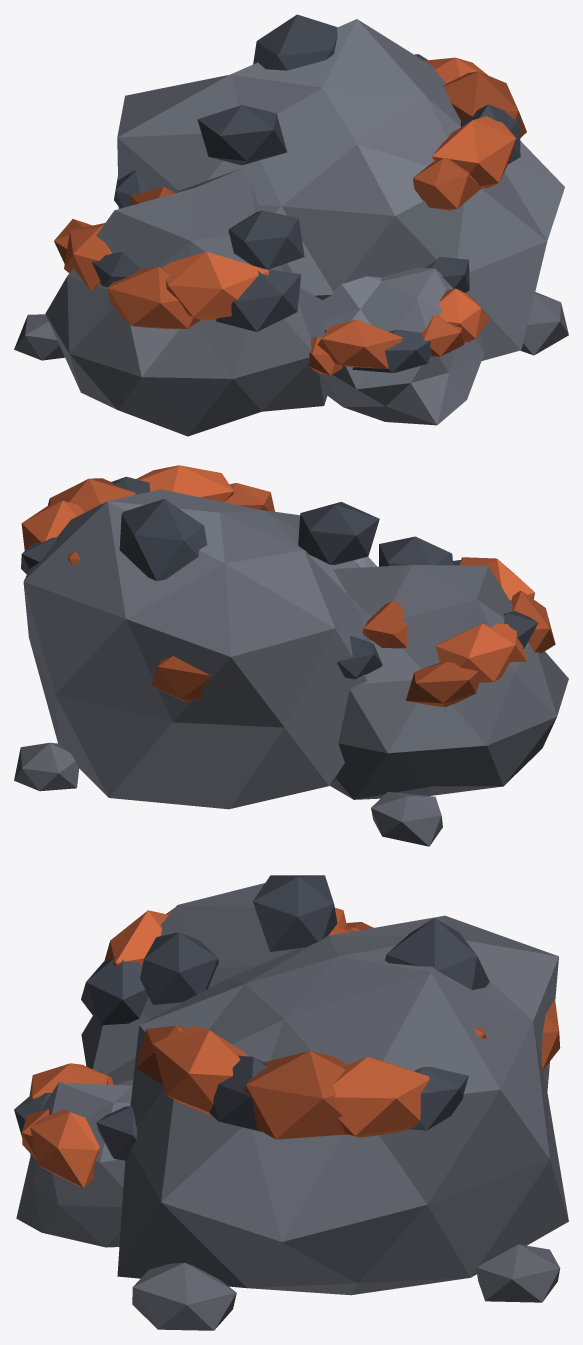
The model's file is iron_vein.glb.
3 views of the same model, one above another, from view 1: azimuth 30°, elevation 25°; view 2: azimuth 150°, elevation 25°; view 3: azimuth 270°, elevation 25° (orthographic). The views are drawn at different scales.
Parts seen in each view (by area): view 1: iron_vein; view 2: iron_vein; view 3: iron_vein.
Boxes of the visible parts, <box> form: iron_vein: <box>14,14,568,436</box>; iron_vein: <box>14,465,568,846</box>; iron_vein: <box>14,875,568,1330</box>.
Bounding box in the file's own units: 2.73 × 1.41 × 2.16.
Materials: 1 (1 with a texture image).
